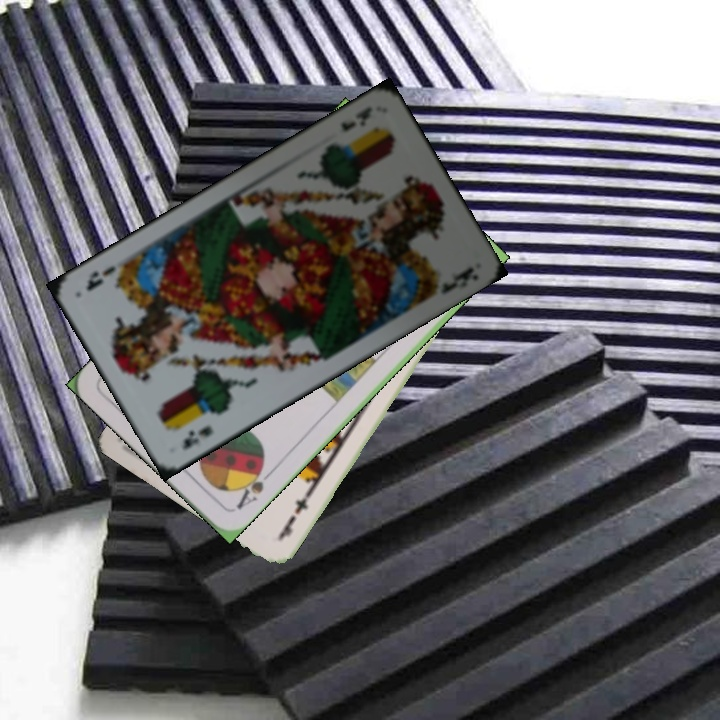E7: (274, 488, 314, 542)
EK: (337, 102, 375, 135), (178, 421, 216, 453)
SA: (232, 460, 276, 513)
